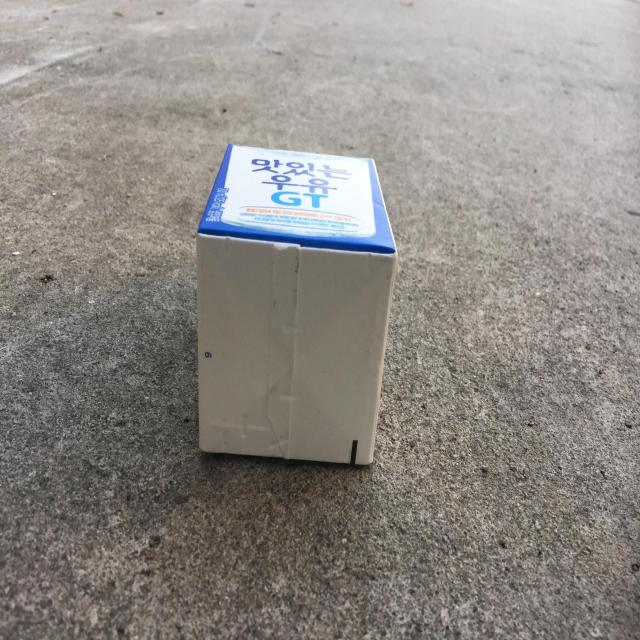paperpack: (196, 144, 397, 465)
